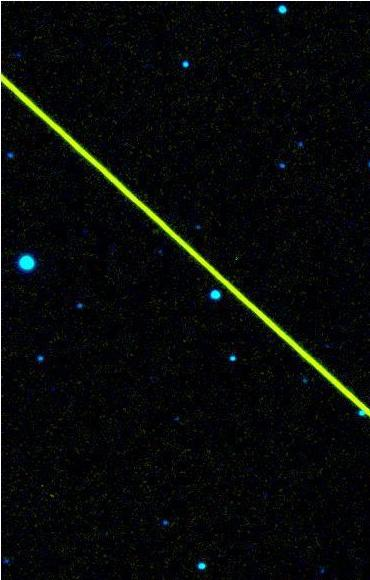star: (3, 41, 33, 71)
